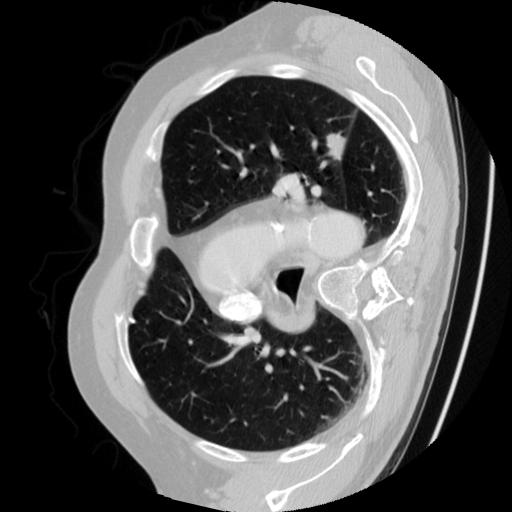nodule: (321, 131, 352, 162)
